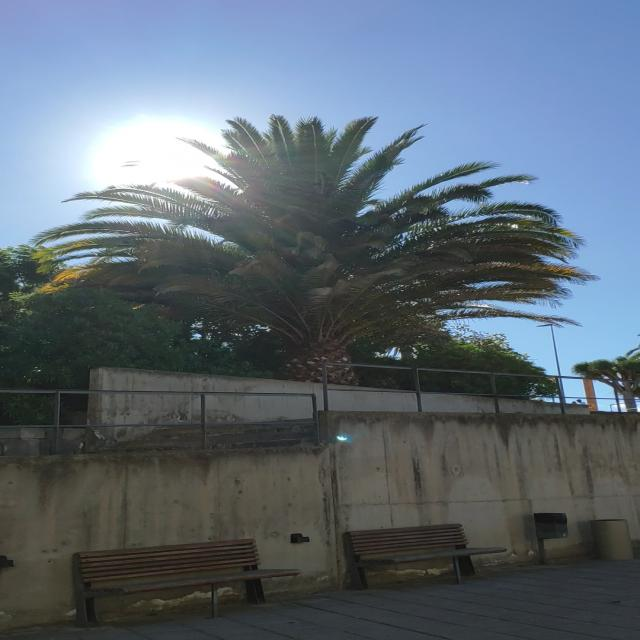Palm-Trees: (59, 113, 560, 386)
